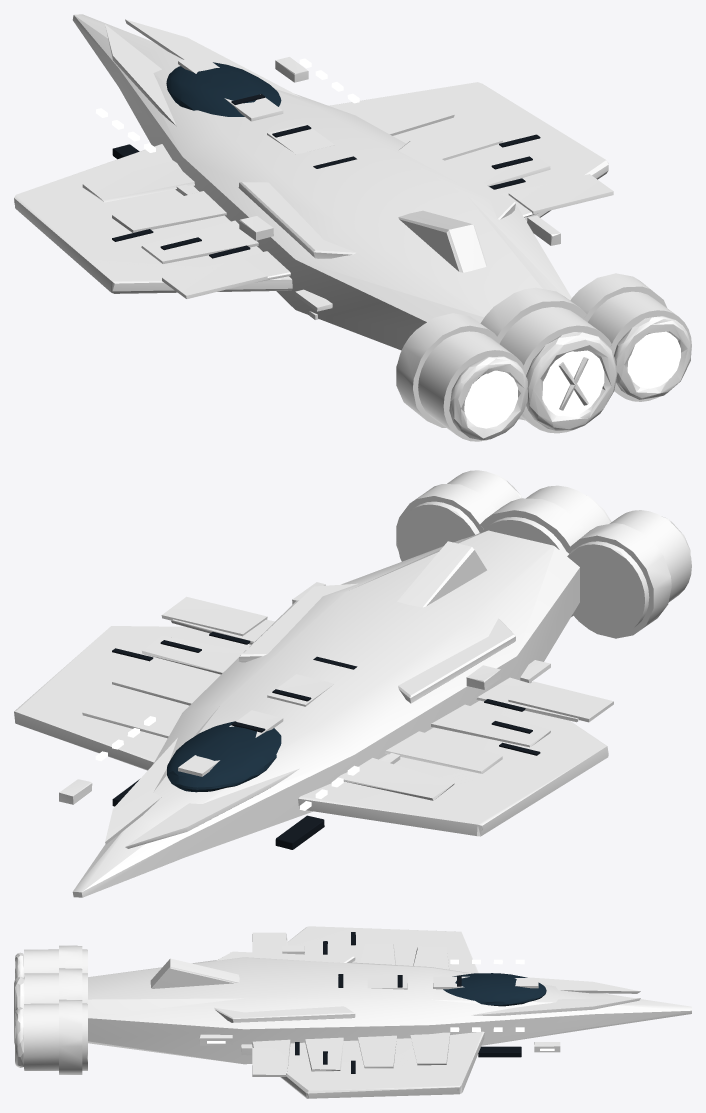
File: aur-lance-interceptor-far.glb
3 renders of one model, top to bottom at view 1: azimuth 30°, elevation 25°; view 2: azimuth 150°, elevation 25°; view 3: azimuth 270°, elevation 25°, orthographic. The views are drawn at different scales.
Parts seen in each view (by area): view 1: Primary_Hull, Engine_Center_Nozzle_Ring, Aft_Shoulder_L, Engine_Center, Engine_Center_Glow, Canopy, Spine_Panel_Seam_01; view 2: Primary_Hull, Engine_Center_Nozzle_Ring, Engine_Center, Aft_Shoulder_L, Canopy, Spine_Panel_Seam_01, Engine_Center_Glow; view 3: Primary_Hull, Engine_Center_Nozzle_Ring, Aft_Shoulder_L, Engine_Center, Canopy, Spine_Panel_Seam_01, Engine_Center_Glow.
Part boxes in pixels (x1,y1,x2,y2): Primary_Hull: (72,14,571,350); Engine_Center_Nozzle_Ring: (14,19,691,440); Aft_Shoulder_L: (14,141,666,427); Engine_Center: (112,57,691,441); Engine_Center_Glow: (96,58,680,428); Canopy: (166,62,281,116); Spine_Panel_Seam_01: (112,94,540,258); Primary_Hull: (72,530,579,897); Engine_Center_Nozzle_Ring: (14,474,690,848); Engine_Center: (59,470,691,804); Aft_Shoulder_L: (161,484,671,830); Canopy: (167,721,281,792); Spine_Panel_Seam_01: (112,632,540,849); Engine_Center_Glow: (95,716,359,810); Primary_Hull: (88,957,691,1064); Engine_Center_Nozzle_Ring: (14,926,640,1098); Aft_Shoulder_L: (59,932,458,1090); Engine_Center: (24,937,560,1074); Canopy: (443,973,546,1006); Spine_Panel_Seam_01: (295,932,521,1073); Engine_Center_Glow: (207,959,554,1050).
Size of the model in its own units: 8.79 by 2.25 by 15.23.
